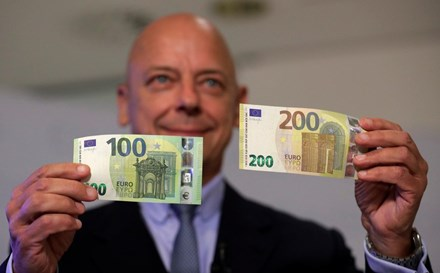Nota de 100€: (67, 132, 206, 206)
Nota de 200€: (235, 102, 384, 179)
